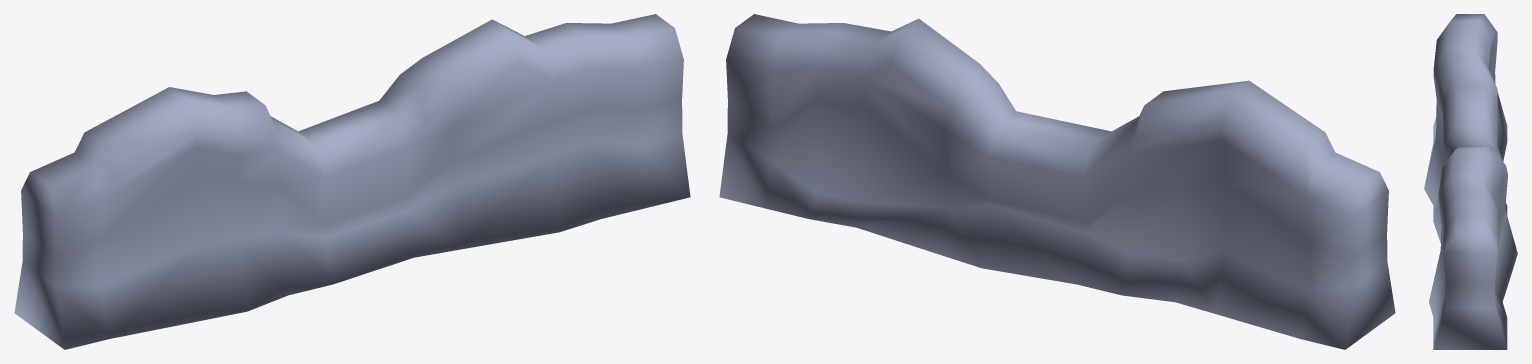
File: wall_3.fbx
3 views of the same model, side by side, from view 1: azimuth 30°, elevation 25°; view 2: azimuth 150°, elevation 25°; view 3: azimuth 270°, elevation 25° (orthographic). The views are drawn at different scales.
Visible parts, largest first — view 1: wall_3; view 2: wall_3; view 3: wall_3.
Part boxes in pixels (bbox=[...]): wall_3: bbox=[14, 14, 690, 349]; wall_3: bbox=[719, 14, 1395, 349]; wall_3: bbox=[1424, 14, 1517, 349].
Bounding box in the file's own units: 400 × 127 × 70.71.
